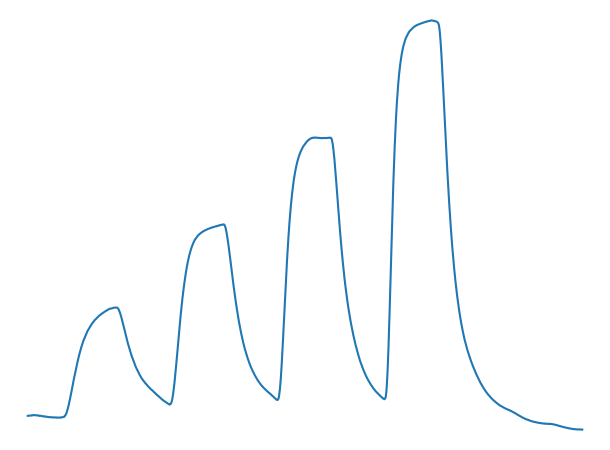decrease: (218, 218, 231, 241), (433, 14, 445, 38), (325, 129, 338, 151), (114, 301, 124, 322)
increase: (57, 403, 71, 424), (165, 390, 178, 411), (272, 386, 285, 407), (378, 383, 390, 403)
